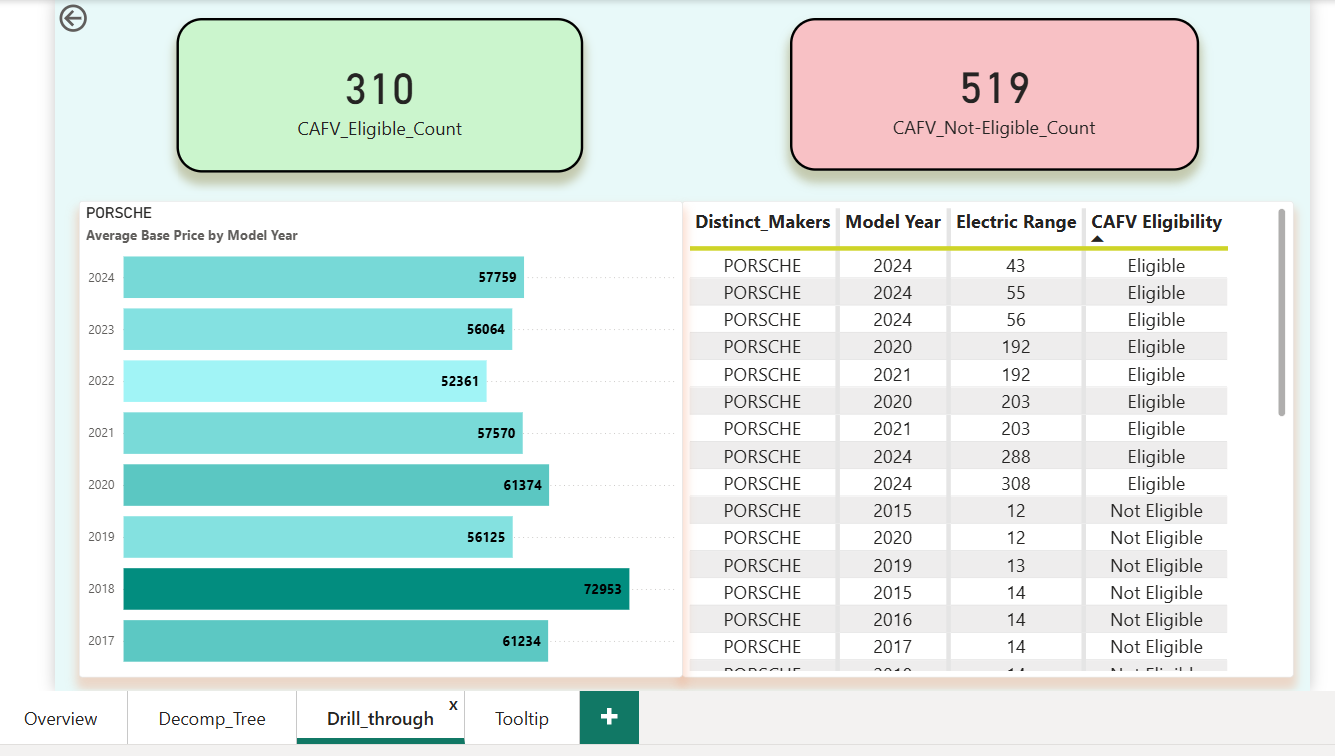

What the dashboard file says about the page in this screenshot:
{"tool":"powerbi","page":{"name":"Drill_through","canvas":[1380,760],"ordinal":2},"visuals":[{"type":"textbox","box":[864.4,360,56,40.8],"z":0},{"type":"textbox","box":[998.5,340.3,66.8,40.5],"z":1000},{"type":"textbox","box":[966.2,360,49.2,40.8],"z":2000},{"type":"textbox","box":[1061.3,360,56,40.8],"z":3000},{"type":"textbox","box":[1156.4,360,56,40.8],"z":4000},{"type":"textbox","box":[1254.9,360,57.7,40.8],"z":5000},{"type":"tableEx","fields":{"Values":["Distinct_Makers.Distinct_Makers","EV_Dataset.Model Year","EV_Dataset.Electric Range","EV_Dataset.CAFV Eligibility Simple"]},"box":[690,220.5,672.5,524.1],"z":6000},{"type":"actionButton","box":[0,0,100,40],"z":7000},{"type":"card","fields":{"Values":["Measure_.CAFV_Eligible_Count"]},"box":[133.2,19.7,447.6,170.3],"z":8000},{"type":"clusteredBarChart","fields":{"Category":["EV_Dataset.Model Year","Distinct_Makers.Distinct_Makers"],"Y":["Avg(EV_Dataset.Base MSRP)"]},"box":[26.2,220.5,663.8,524.1],"z":9000},{"type":"card","fields":{"Values":["Measure_.CAFV_Not-Eligible_Count"]},"box":[807.9,19.7,449.8,168.1],"z":10000}]}

Visuals, with their boxes on the page's 1380x760 design canvas (x1, y1, x2, y2). These are canvas units, not pixel positions in the 1335x756 screenshot, which may show the page scaled, cropped or inside an application window:
textbox: {"left": 864, "top": 360, "right": 920, "bottom": 401}
textbox: {"left": 998, "top": 340, "right": 1065, "bottom": 381}
textbox: {"left": 966, "top": 360, "right": 1015, "bottom": 401}
textbox: {"left": 1061, "top": 360, "right": 1117, "bottom": 401}
textbox: {"left": 1156, "top": 360, "right": 1212, "bottom": 401}
textbox: {"left": 1255, "top": 360, "right": 1313, "bottom": 401}
tableEx - Distinct_Makers.Distinct_Makers x EV_Dataset.Model Year: {"left": 690, "top": 220, "right": 1362, "bottom": 745}
actionButton: {"left": 0, "top": 0, "right": 100, "bottom": 40}
card - Measure_.CAFV_Eligible_Count: {"left": 133, "top": 20, "right": 581, "bottom": 190}
clusteredBarChart - EV_Dataset.Model Year x Distinct_Makers.Distinct_Makers: {"left": 26, "top": 220, "right": 690, "bottom": 745}
card - Measure_.CAFV_Not-Eligible_Count: {"left": 808, "top": 20, "right": 1258, "bottom": 188}
